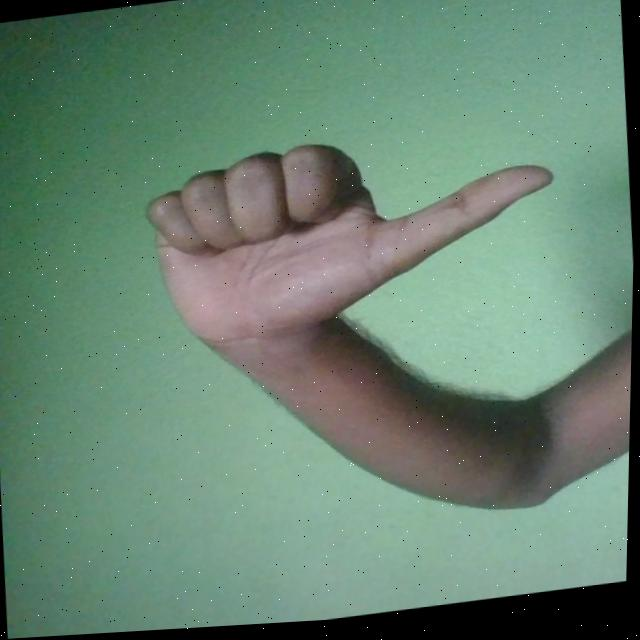Dislike: (140, 118, 567, 360)
